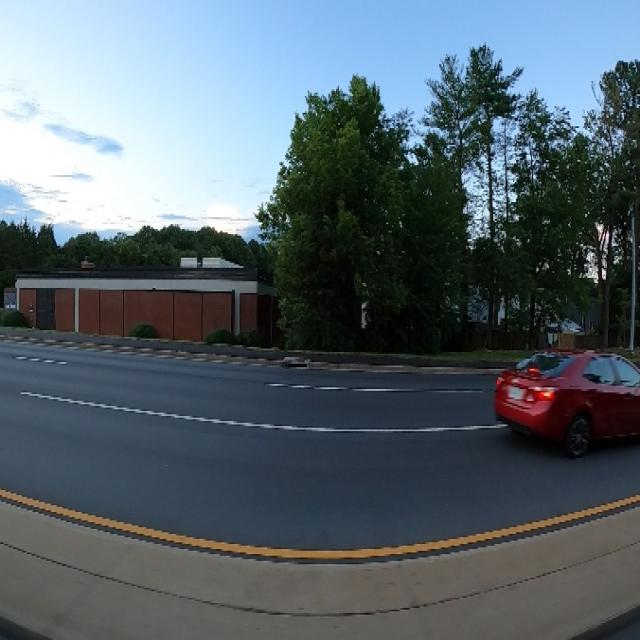cars: (490, 330, 640, 468)
